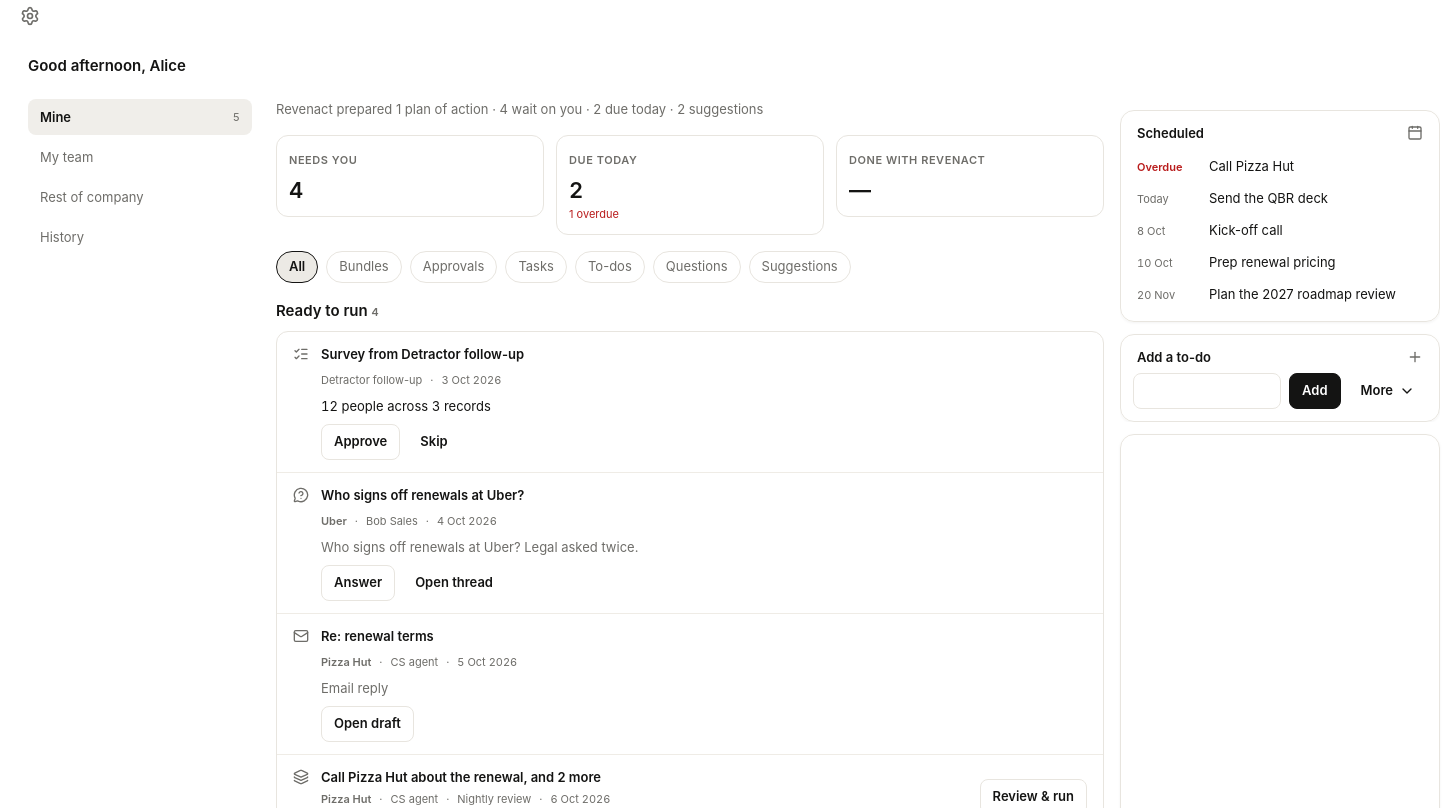
Work: the right pane › a to-do added in the pane lands in the list, as from the box
The image size is (1452, 808).
Type "Call Twilio about SSO" into the field named "Add a to-do". click: (1207, 391)
box: [1133,373,1281,409]
Then press Enter
(page scrolled)
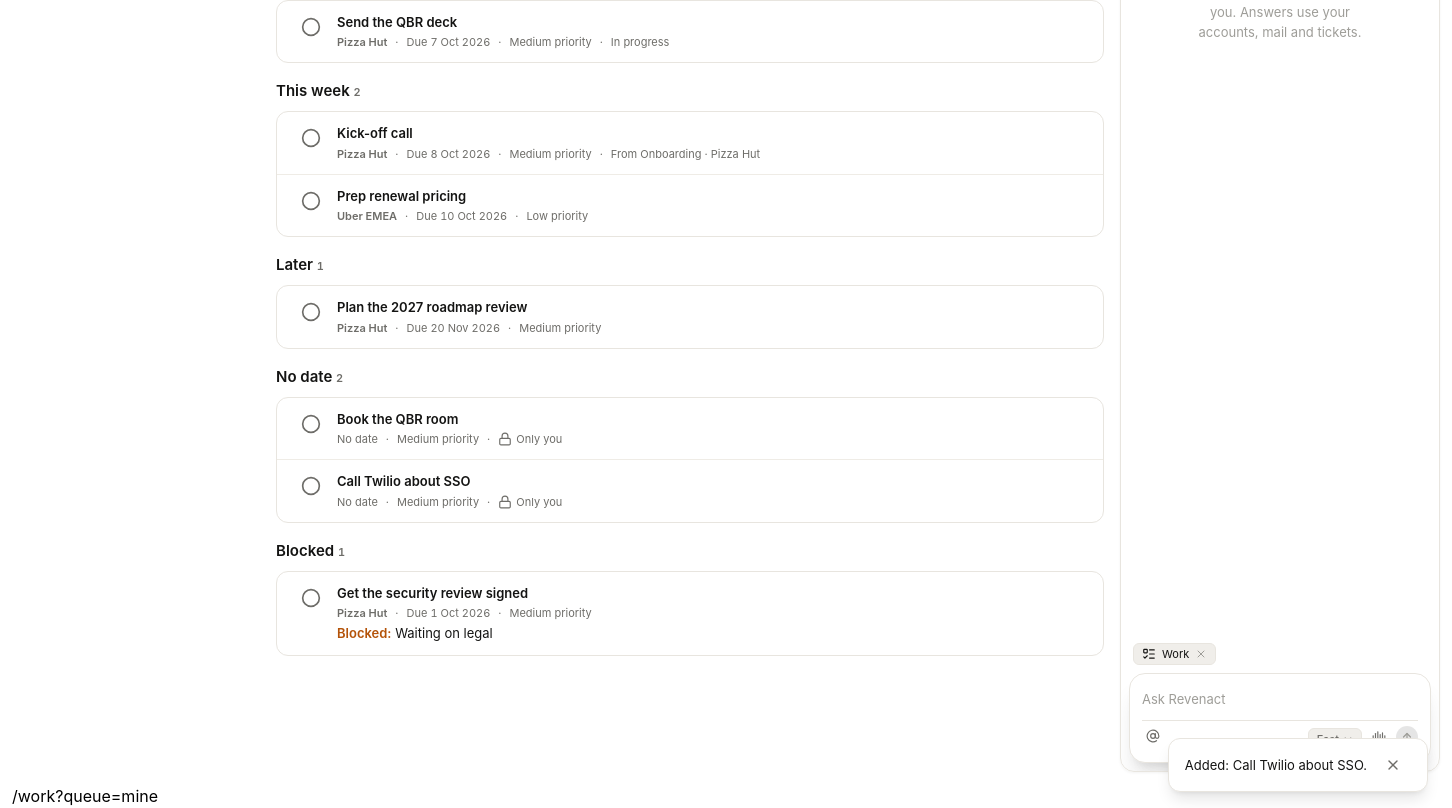
Check: the link "Call Twilio about SSO" is shown, box [337,472,470,492]
